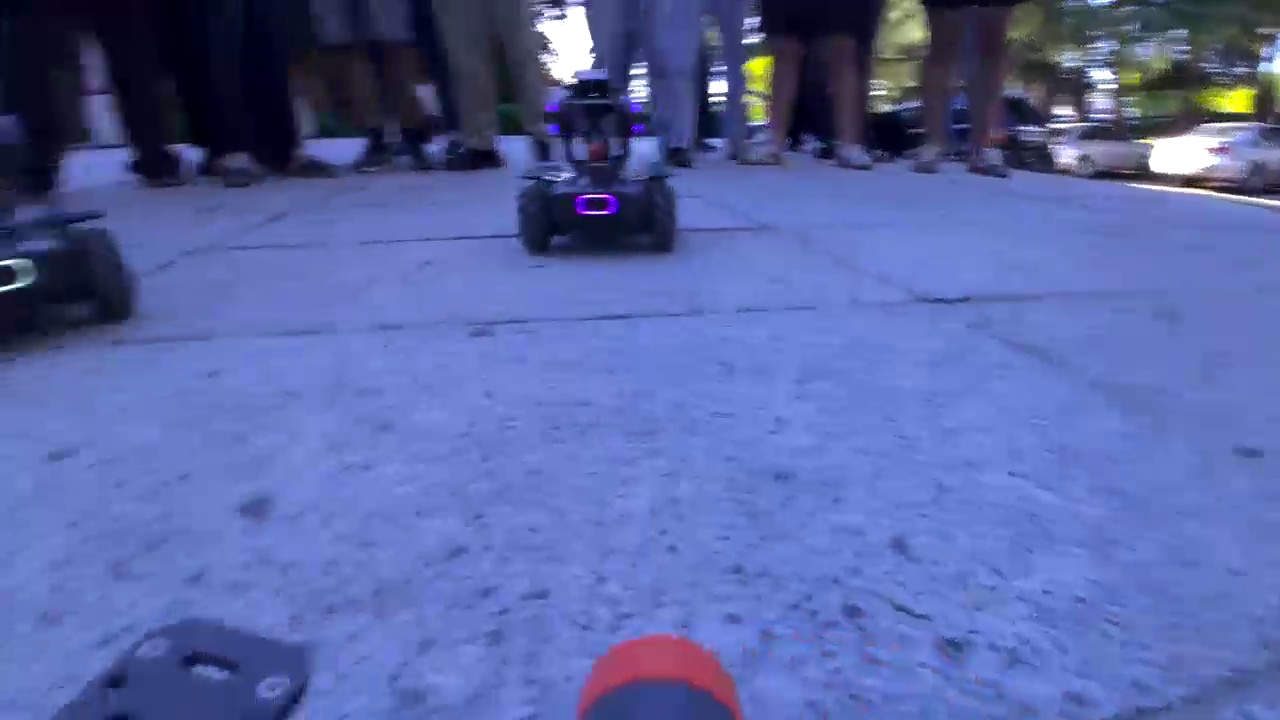robot: (516, 68, 680, 259), (1, 208, 126, 335)
